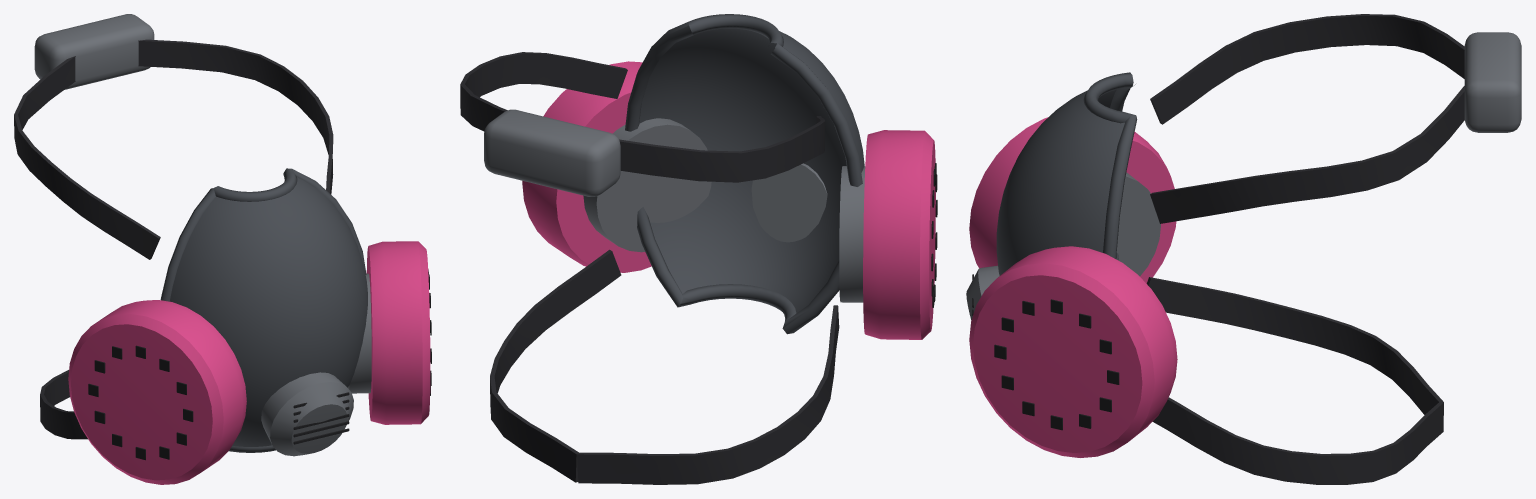
Rendered from half-mask-respirator.glb.
The picture shows the model from 3 angles, left to right: view 1: azimuth 30°, elevation 25°; view 2: azimuth 150°, elevation 25°; view 3: azimuth 270°, elevation 25°; orthographic projection. The views are drawn at different scales.
Parts seen in each view (by area): view 1: Half_Mask_Respirator; view 2: Half_Mask_Respirator; view 3: Half_Mask_Respirator.
Part boxes in pixels (x1,y1,x2,y2): Half_Mask_Respirator: [14, 14, 431, 484]; Half_Mask_Respirator: [460, 14, 937, 484]; Half_Mask_Respirator: [966, 14, 1521, 484].
Bounding box in the file's own units: 0.2049 × 0.181 × 0.2432.
